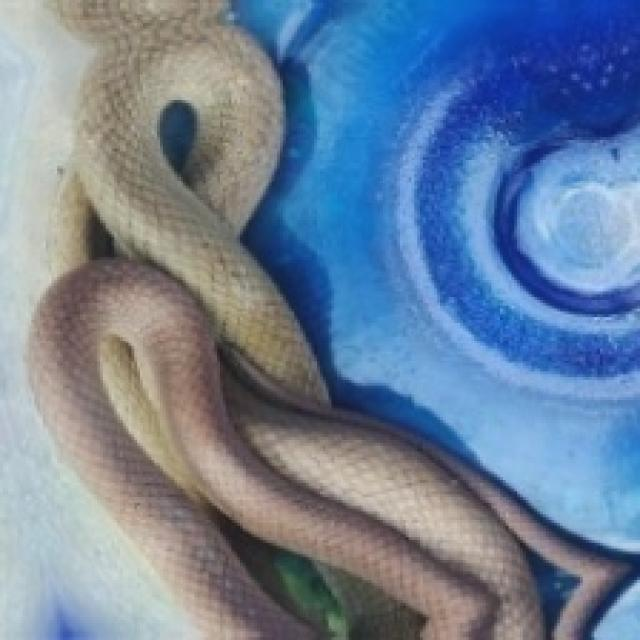reddish rat snake: (31, 0, 626, 637)
